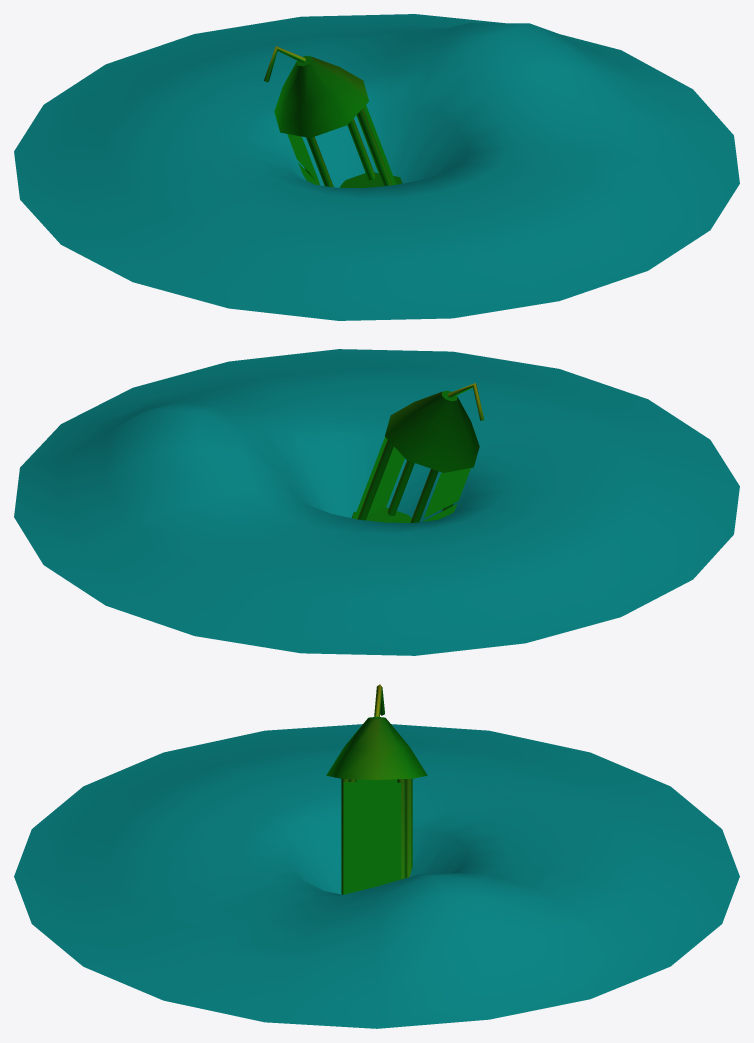
File: lamp_burial.glb
The picture shows the model from 3 angles, top to bottom: view 1: azimuth 30°, elevation 25°; view 2: azimuth 150°, elevation 25°; view 3: azimuth 270°, elevation 25°; orthographic projection.
Visible parts, largest first — view 1: lamp_burial; view 2: lamp_burial; view 3: lamp_burial.
Boxes of the visible parts, x1,y1,x2,y2 form: lamp_burial: (14,14,739,320); lamp_burial: (14,349,739,655); lamp_burial: (14,684,739,1028).
Size of what is drawn, in the model's own units: 1.3 by 0.4258 by 1.3.
